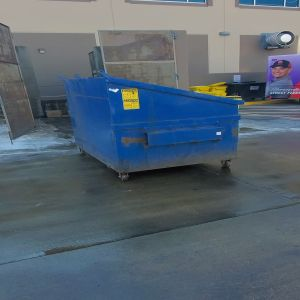Dumpster: (68, 82, 241, 182)
Person: (269, 60, 292, 86)
